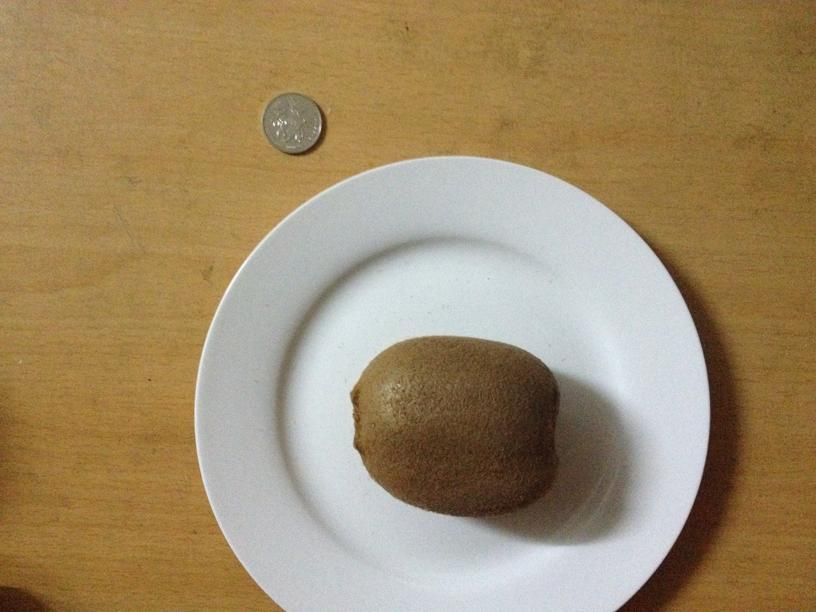coin: (262, 93, 325, 152)
qiwi: (349, 334, 560, 517)
